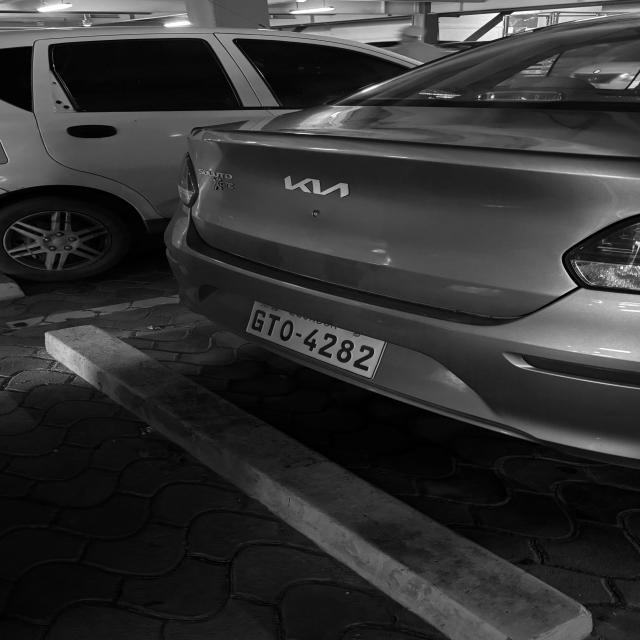Placa: (247, 302, 385, 378)
